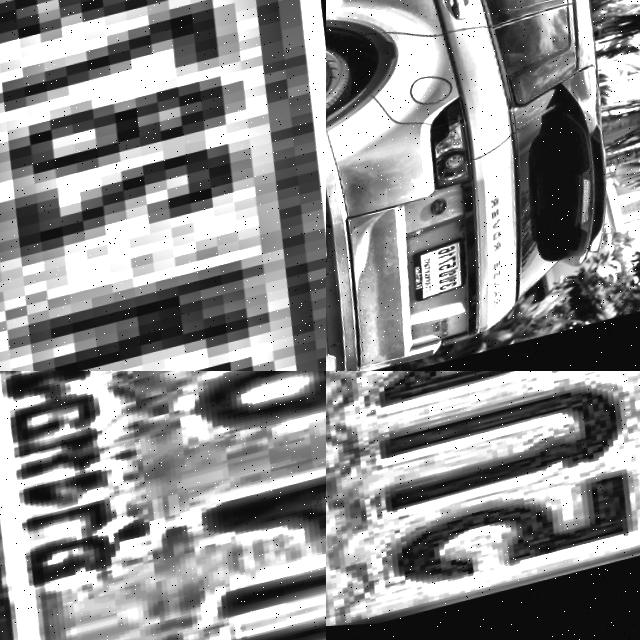license-plate: (0, 0, 326, 371), (0, 371, 326, 640), (326, 371, 640, 640), (413, 240, 488, 310)
